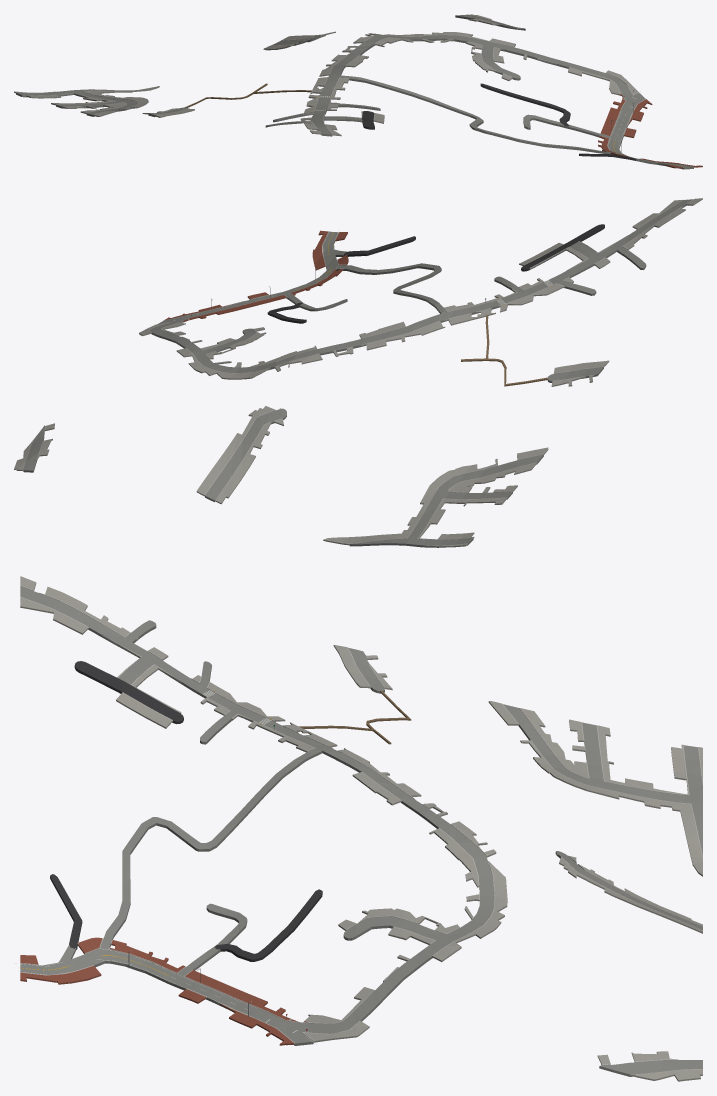
3 renders of one model, top to bottom at view 1: azimuth 30°, elevation 25°; view 2: azimuth 150°, elevation 25°; view 3: azimuth 270°, elevation 25°, orthographic. The views are drawn at different scales.
Size of the model in its own units: 296 by 111 by 294.
